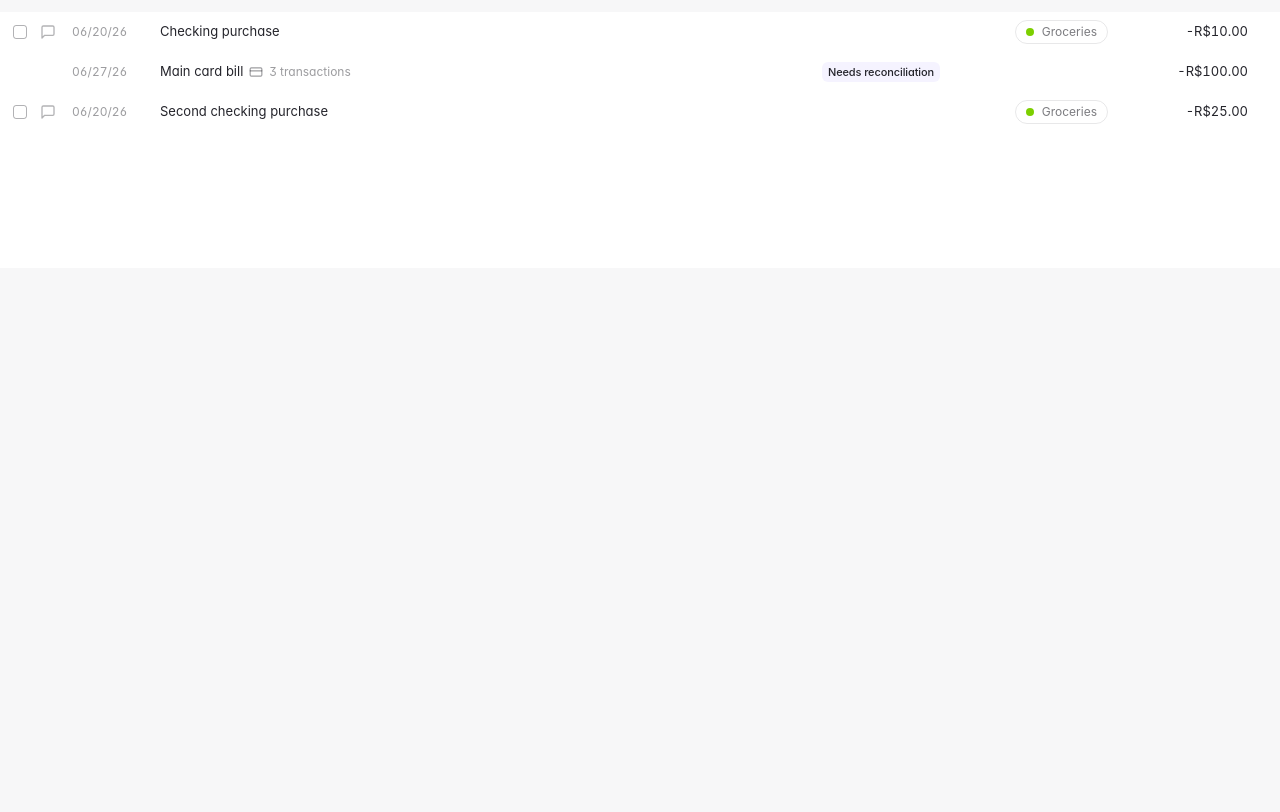
CreditCardBillsLedger selection › provides checking-row checkboxes but never selects derived bills through select all
Step 1. Click the checkbox named "Select transaction" in the row of "-R$10.00" → (20, 32), box [8,12,32,52]
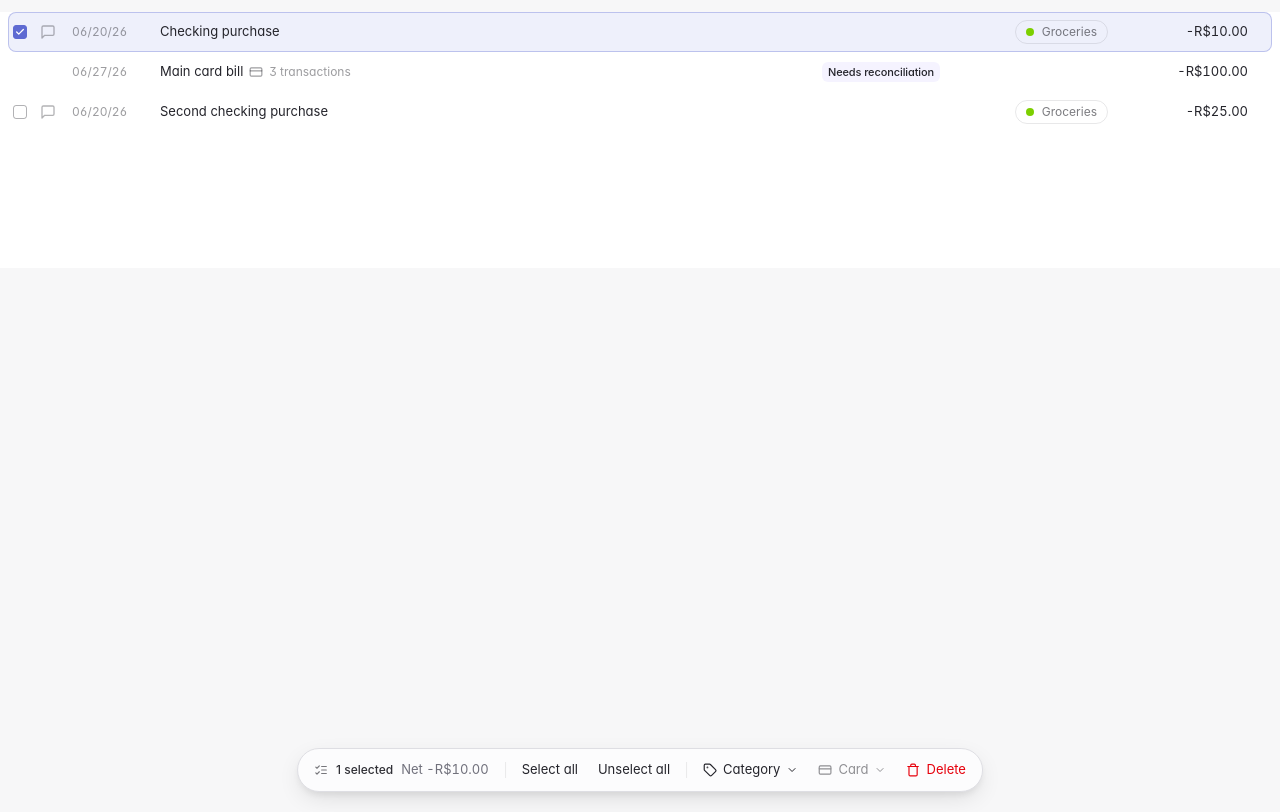
Expected: the message shows "1 selected", [336,762,393,777]
Step 2. Click the button "Select all" → (550, 770), box [514,756,586,784]
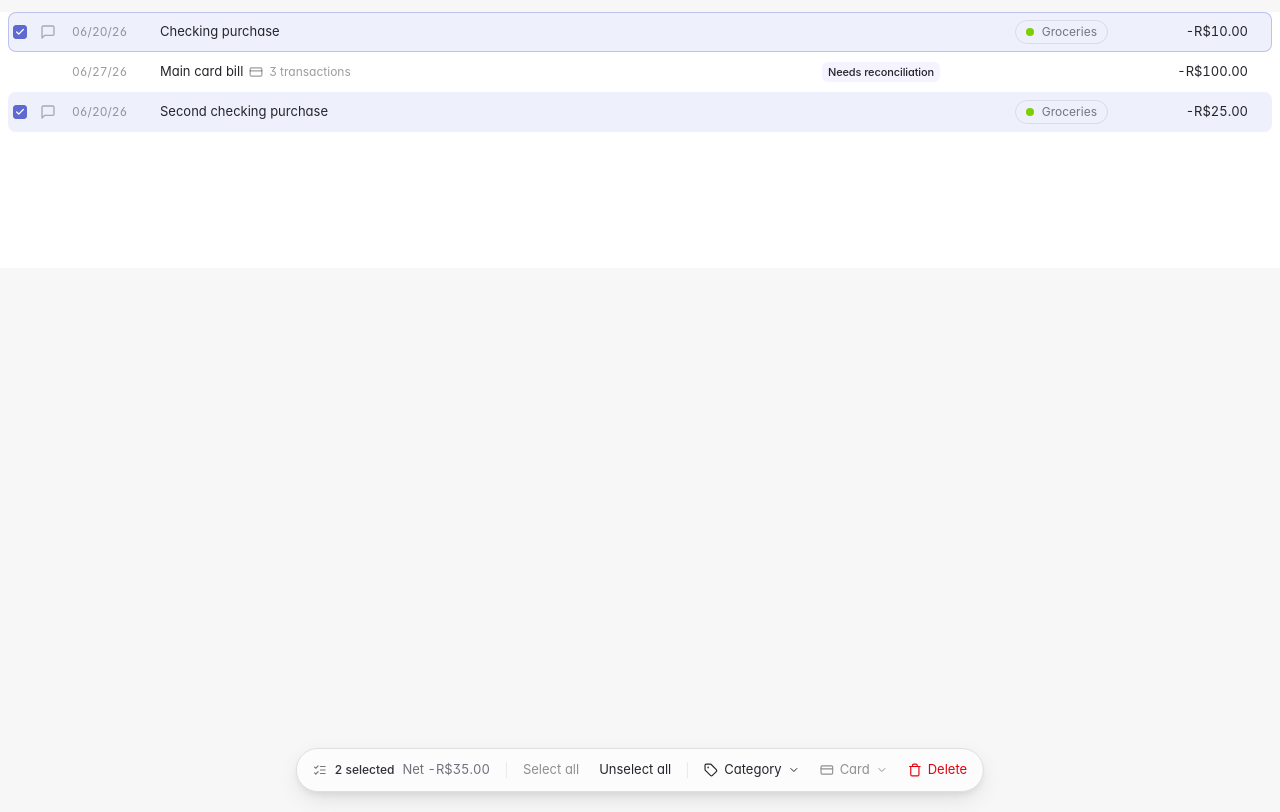
Expected: the checkbox named "Select transaction" in the row of "-R$10.00" is checked, [8,12,32,52]
Expected: the message shows "2 selected", [335,762,394,777]
Expected: the message reads "2 selected Net -R$35.00", [313,761,490,777]
